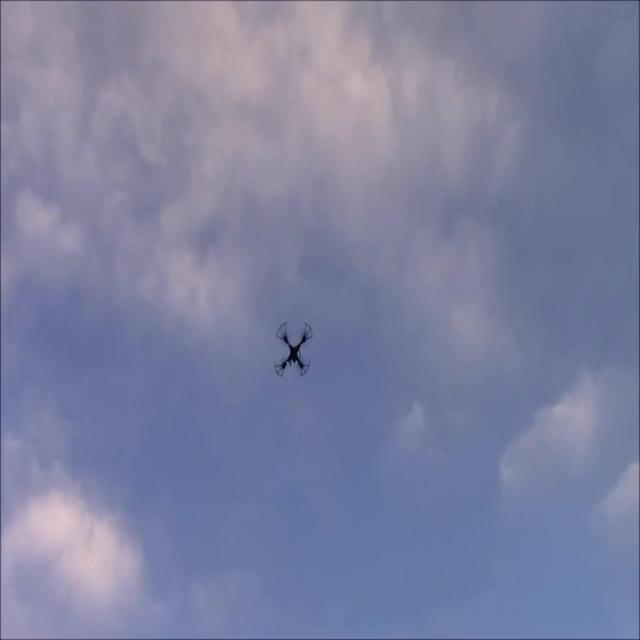drone: (269, 320, 314, 379)
